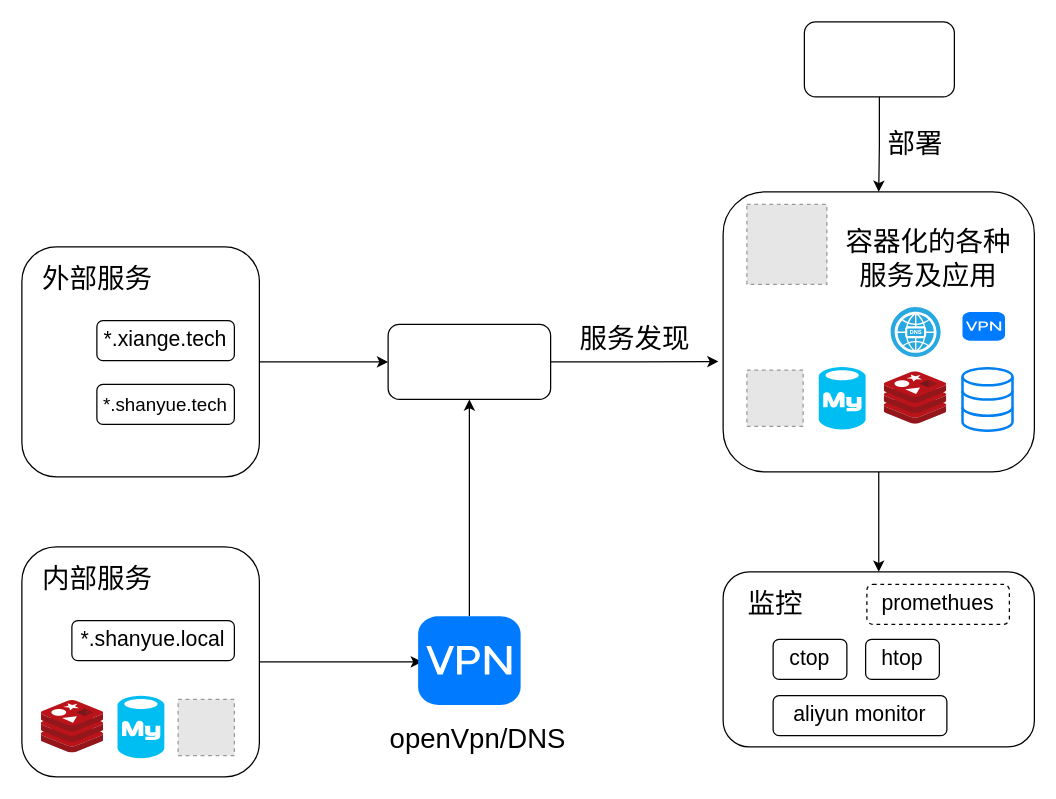
Some shapes in this 1056 by 799 pixel diagram are drawn without their labels. Grey dashed boxes stand in for pictures. Each missing label, with the centre of its shape:
"docker compose" goes at (x=878, y=59).
"Traefik" goes at (x=469, y=361).
